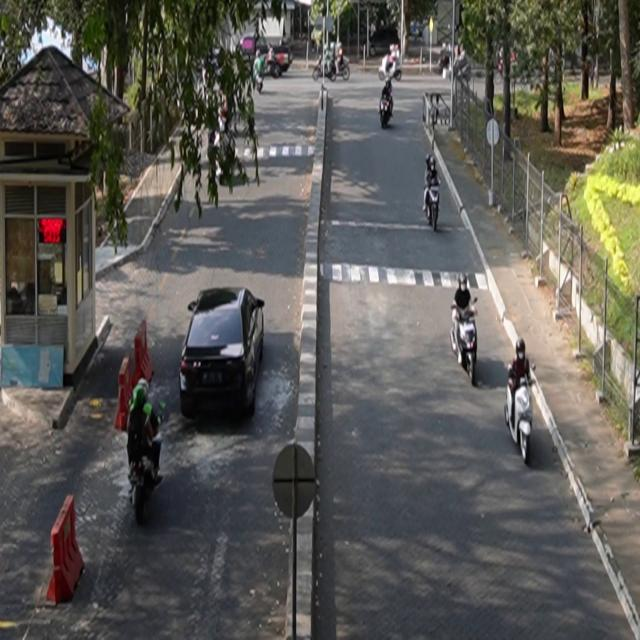car: (180, 287, 266, 421)
